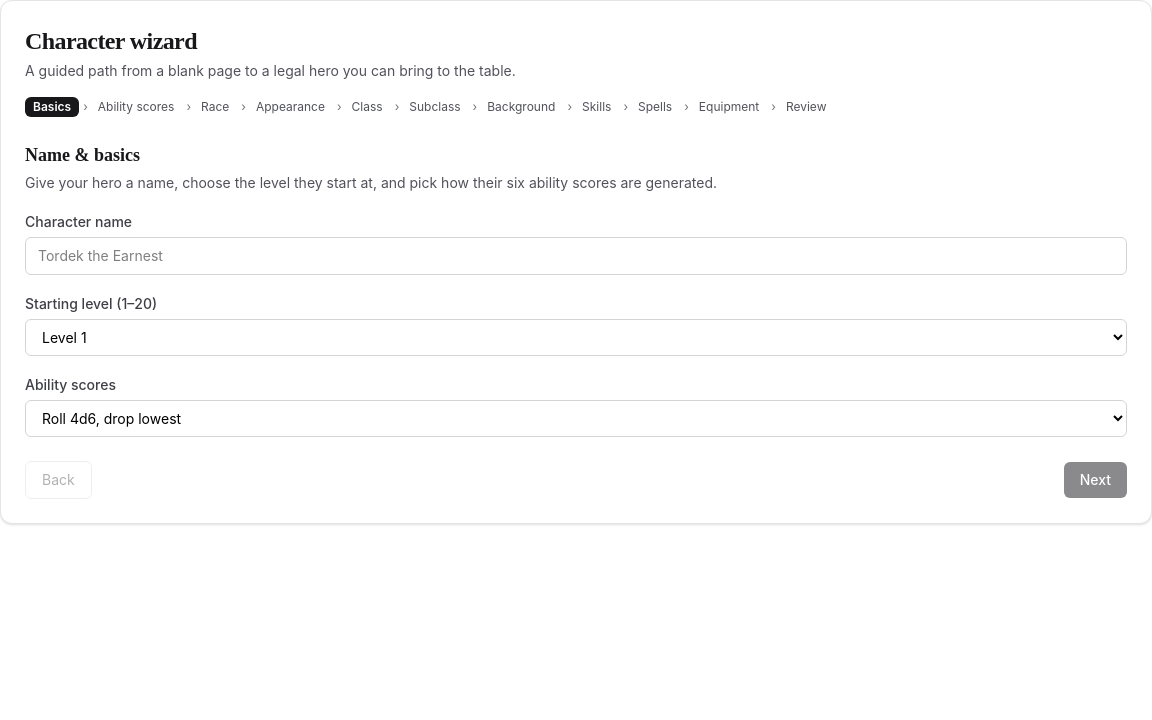
it: CharacterWizardPage › defaults to rolling dice with no arrow steppers
Type "Tordek" into the field labelled "Character name". click: (576, 256)
box: 25,237 -> 1127,275
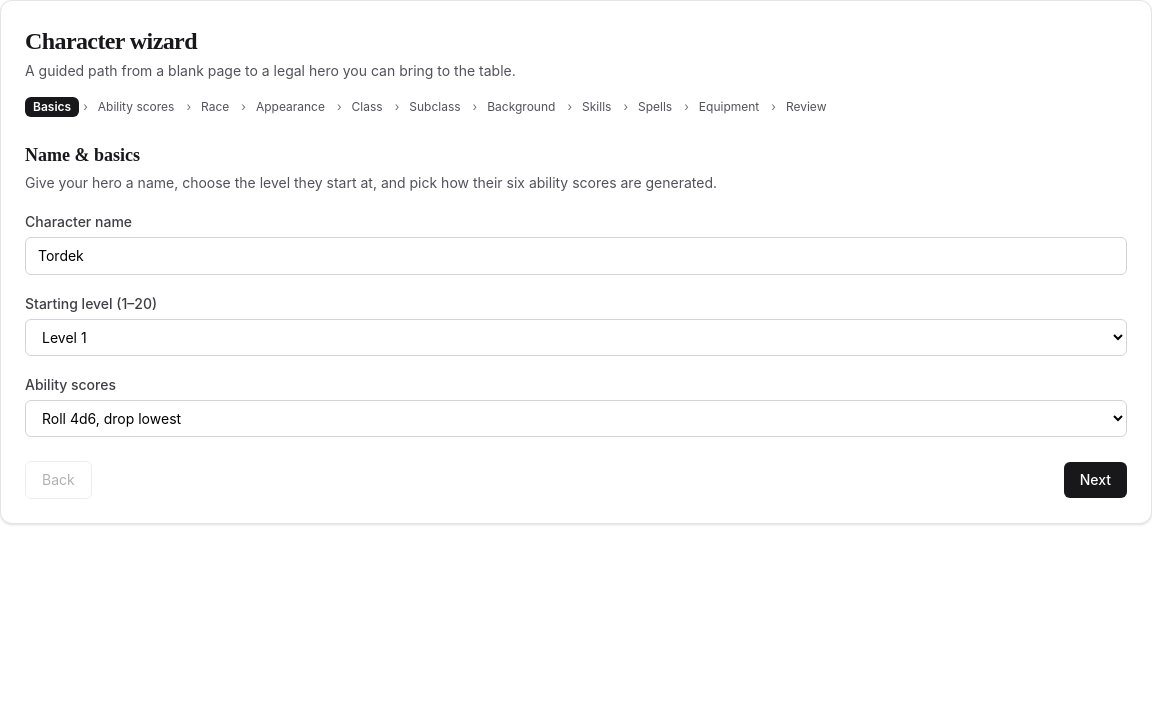
Click the button "Next". click: (1095, 480)
box: 1064,462 -> 1127,498
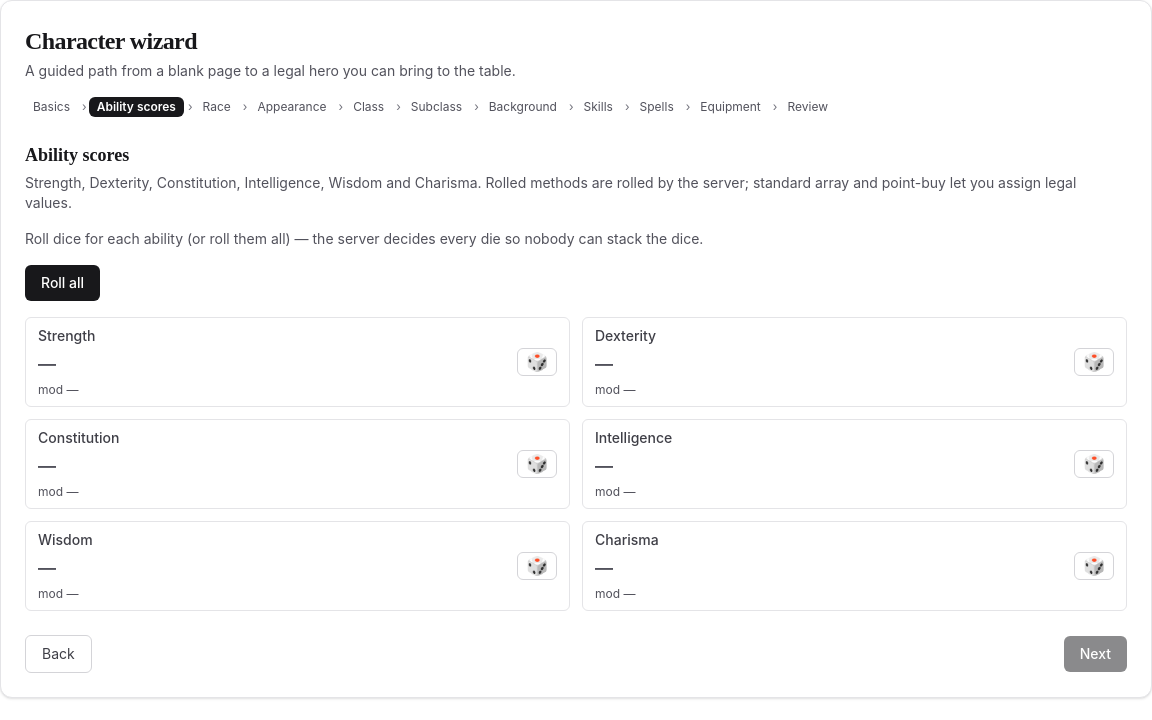
Check: the button with aria-label "Roll all ability scores" is shown, box 25,265 -> 100,301
Check: the button named "Roll Strength" is shown, box 517,348 -> 557,376
Check: the number of buttons "Roll all" is 7
